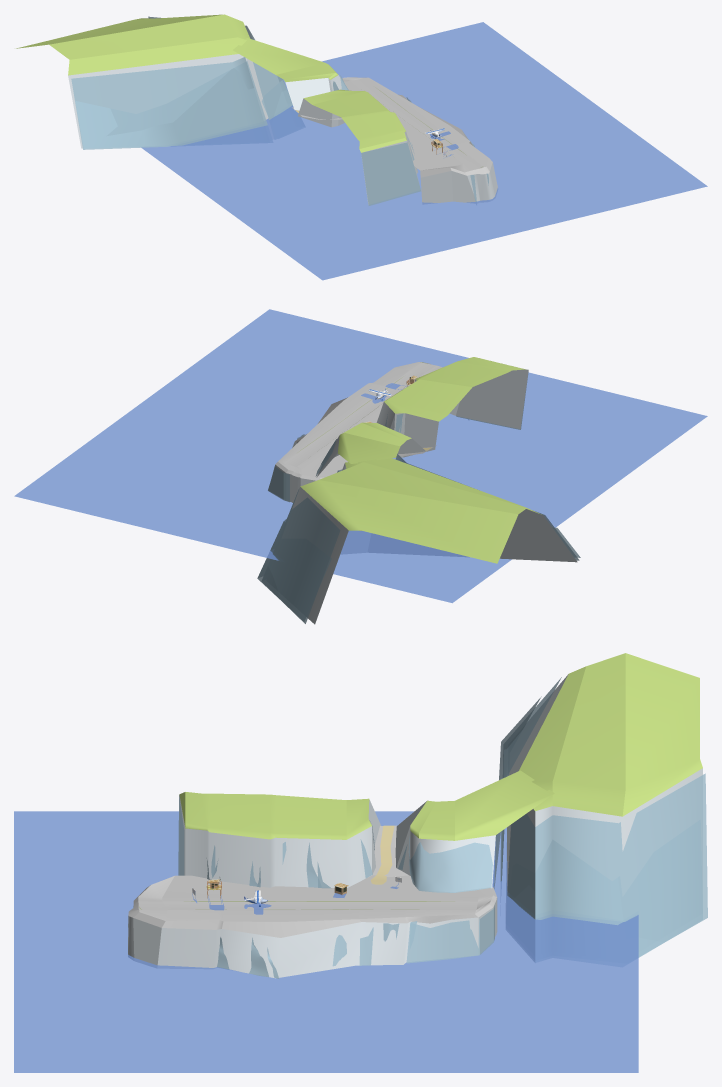
Rendered from AIrportExport.fbx.
3 renders of one model, top to bottom at view 1: azimuth 30°, elevation 25°; view 2: azimuth 150°, elevation 25°; view 3: azimuth 270°, elevation 25°, orthographic. The views are drawn at different scales.
Visible parts, largest first — view 1: sea_OBJ, rightCliff_OBJ, leftCliff_OBJ, cliff_OBJ, grass01_OBJ, grass_02_OBJ, grass03_OBJ; view 2: sea_OBJ, rightCliff_OBJ, leftCliff_OBJ, grass03_OBJ, grass_02_OBJ, cliff_OBJ, grass01_OBJ; view 3: sea_OBJ, rightCliff_OBJ, leftCliff_OBJ, cliff_OBJ, grass_02_OBJ, grass03_OBJ, grass01_OBJ, townPath_OBJ.
Part boxes in pixels (x1,y1,x2,y2): sea_OBJ: [141, 22, 707, 280]; rightCliff_OBJ: [16, 14, 348, 149]; leftCliff_OBJ: [298, 89, 420, 205]; cliff_OBJ: [292, 97, 497, 204]; grass01_OBJ: [413, 141, 492, 177]; grass_02_OBJ: [392, 106, 469, 153]; grass03_OBJ: [342, 77, 417, 111]; sea_OBJ: [14, 309, 707, 603]; rightCliff_OBJ: [257, 422, 580, 624]; leftCliff_OBJ: [376, 357, 528, 457]; grass03_OBJ: [275, 425, 347, 480]; grass_02_OBJ: [317, 383, 401, 431]; cliff_OBJ: [268, 419, 468, 502]; grass01_OBJ: [369, 362, 442, 390]; sea_OBJ: [14, 811, 638, 1072]; rightCliff_OBJ: [395, 653, 707, 966]; leftCliff_OBJ: [178, 792, 380, 888]; cliff_OBJ: [128, 825, 497, 978]; grass_02_OBJ: [221, 880, 362, 937]; grass03_OBJ: [359, 875, 497, 923]; grass01_OBJ: [128, 875, 227, 929]; townPath_OBJ: [370, 825, 394, 884].
Bounding box in the file's own units: 945 × 228 × 910.
